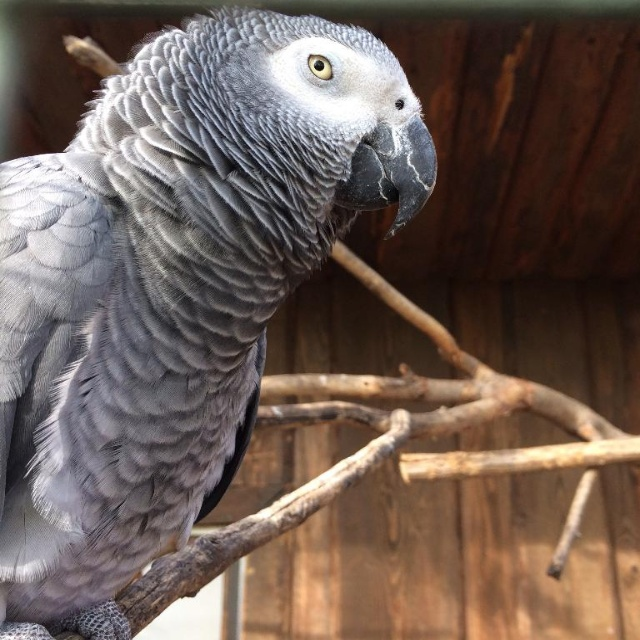Parrot: (0, 4, 437, 640)
